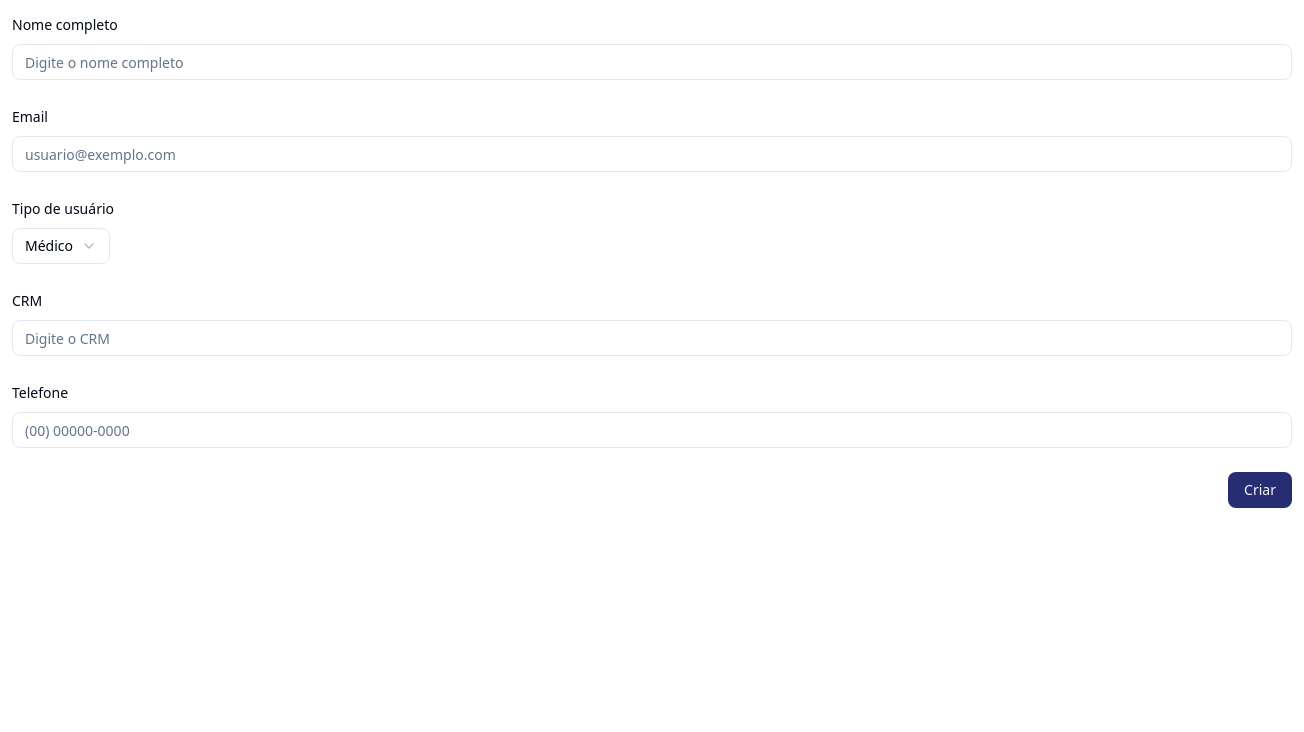
Scenario: UserForm › should validate minimum name length
Type "AB" into the field labelled "Nome completo" at (652, 62), box [12, 44, 1292, 80]
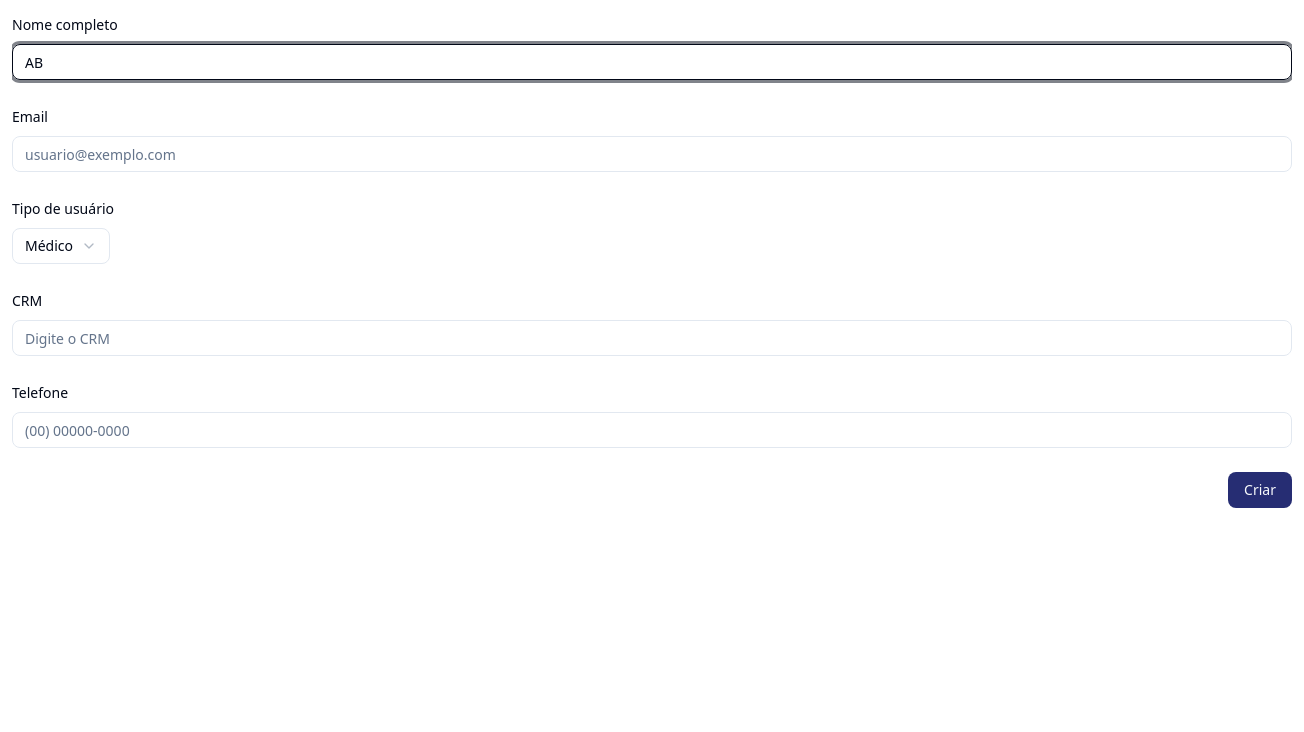
Click the button "Criar" at (1260, 490), box [1228, 472, 1292, 508]
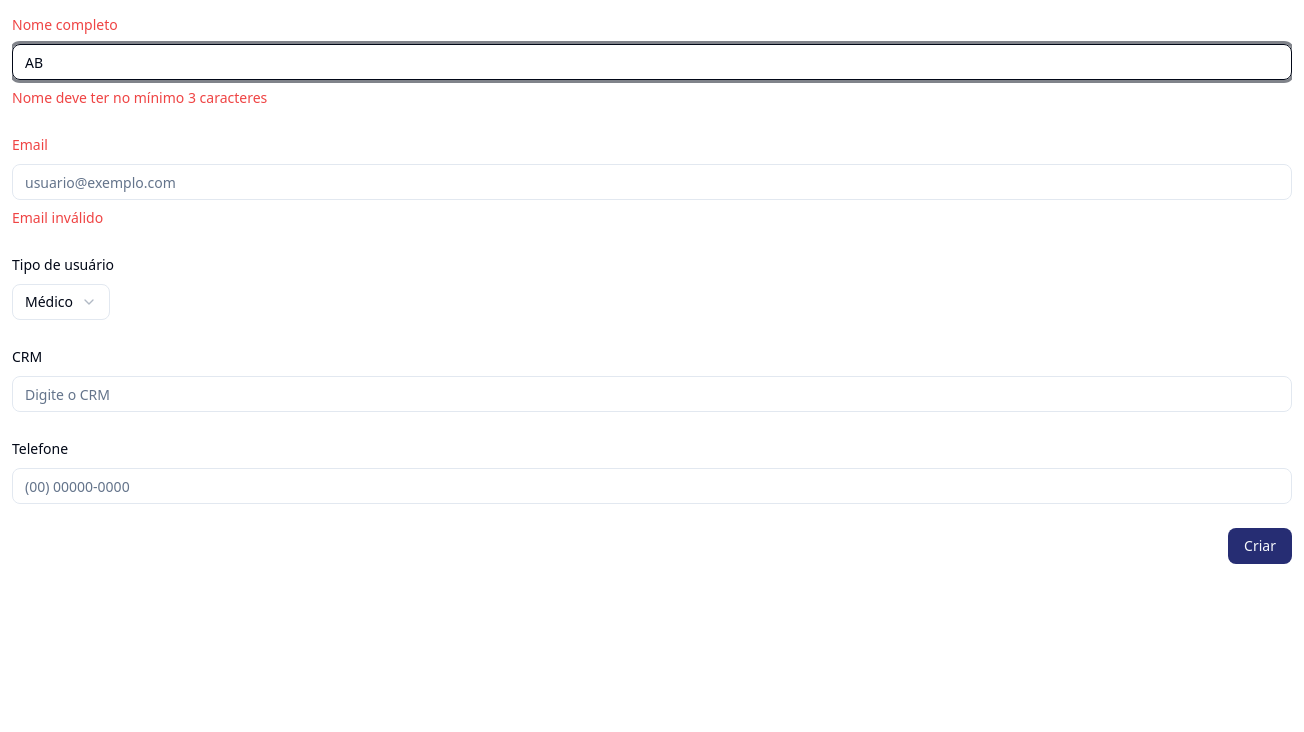
Expected: the text "Nome deve ter no mínimo 3 caracteres" is shown, [12, 88, 267, 107]
